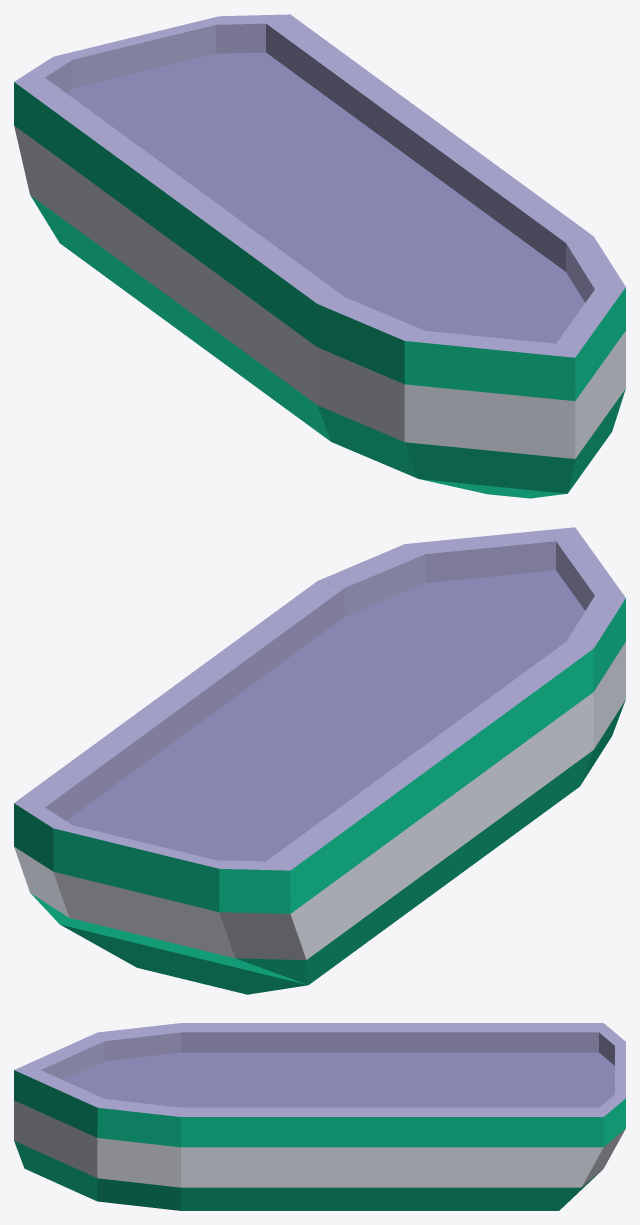
File: BoatV1.fbx
The picture shows the model from 3 angles, top to bottom: view 1: azimuth 30°, elevation 25°; view 2: azimuth 150°, elevation 25°; view 3: azimuth 270°, elevation 25°; orthographic projection. The views are drawn at different scales.
Parts seen in each view (by area): view 1: hull, hull_front, rail, hull_backEdge, rail_front, rail_backEdge; view 2: hull, hull_backEdge, rail, rail_backEdge, hull_front, rail_front; view 3: hull, rail, hull_front, hull_backEdge, rail_front, rail_backEdge.
Part boxes in pixels (bbox=[...]): hull: bbox=[78, 97, 565, 441]; hull_front: bbox=[317, 272, 625, 498]; rail: bbox=[77, 61, 593, 332]; hull_backEdge: bbox=[14, 52, 326, 266]; rail_front: bbox=[317, 236, 625, 386]; rail_backEdge: bbox=[14, 14, 353, 156]; hull: bbox=[106, 617, 593, 961]; hull_backEdge: bbox=[14, 792, 354, 994]; rail: bbox=[78, 581, 593, 852]; rail_backEdge: bbox=[14, 756, 354, 899]; hull_front: bbox=[345, 570, 625, 785]; rail_front: bbox=[317, 527, 625, 676]; hull: bbox=[181, 1052, 514, 1210]; rail: bbox=[181, 1023, 514, 1137]; hull_front: bbox=[14, 1052, 180, 1210]; hull_backEdge: bbox=[514, 1052, 625, 1210]; rail_front: bbox=[14, 1023, 180, 1137]; rail_backEdge: bbox=[514, 1023, 625, 1137].
Size of the model in its own units: 20 by 12 by 55.
